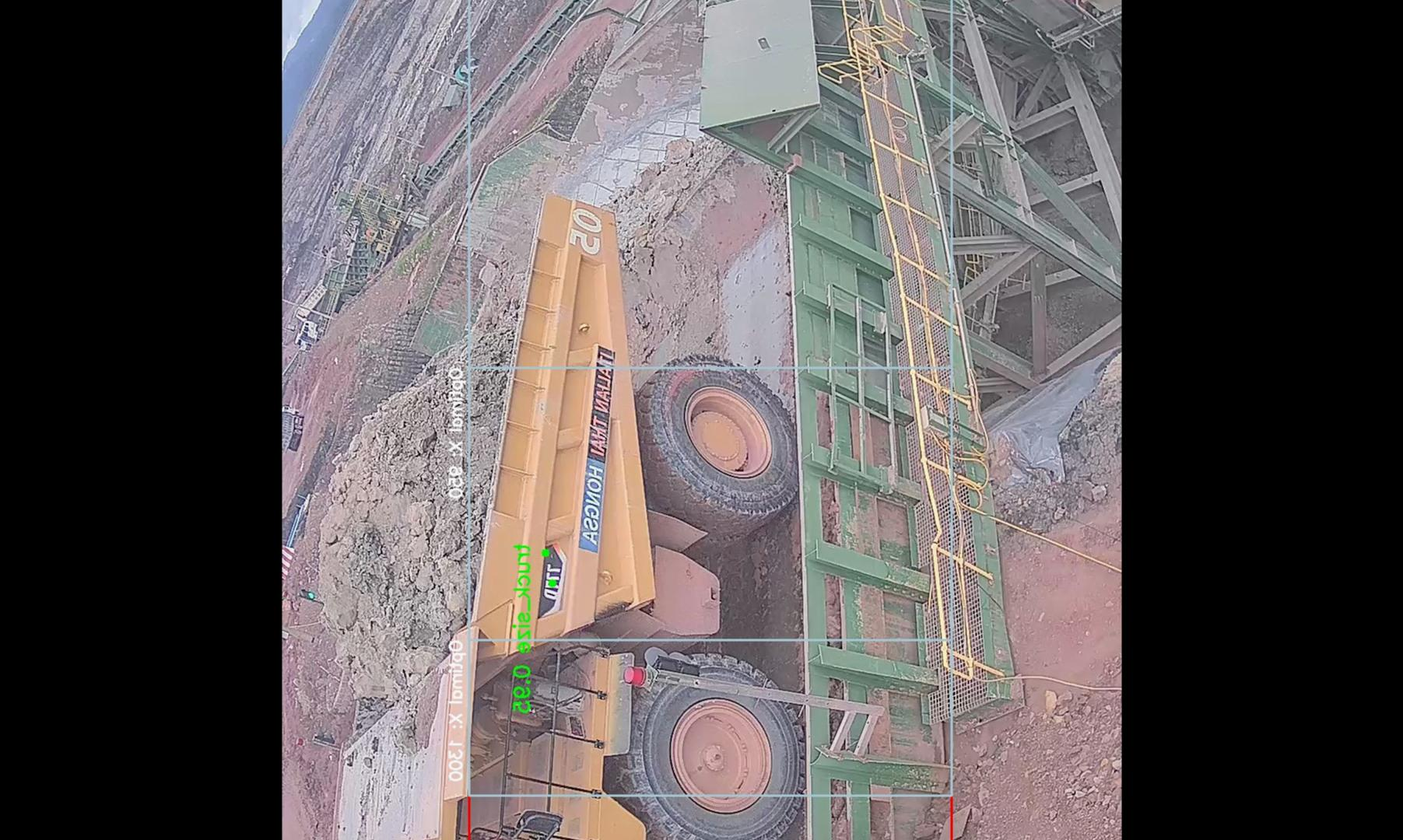company: (577, 339, 617, 561)
full_load: (301, 366, 511, 654)
mining_truck: (295, 184, 796, 840)
tail_number: (563, 198, 609, 262)
truck_size: (535, 538, 566, 623)
